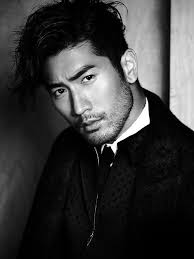asian_male: (30, 7, 172, 158)
